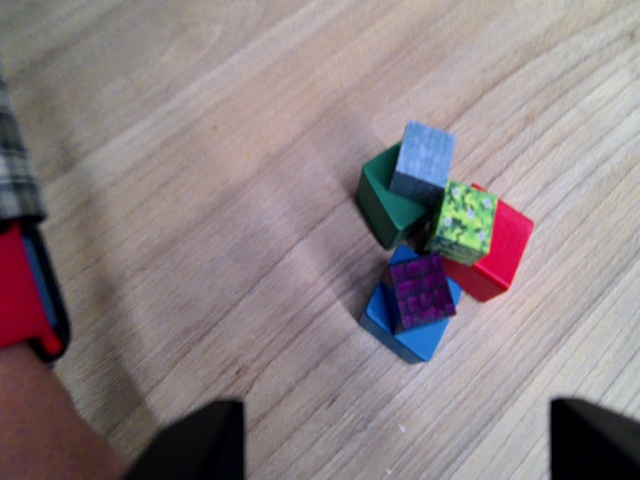brick: (383, 244, 460, 332)
grass: (429, 175, 499, 264)
stone: (394, 118, 450, 203)
